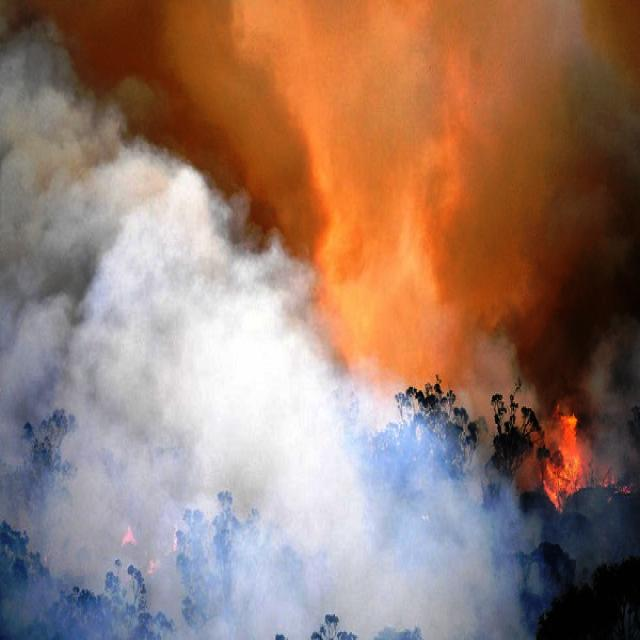api: (552, 400, 586, 504)
asap: (1, 1, 536, 640), (544, 6, 640, 401), (546, 508, 637, 612), (592, 400, 636, 518)
